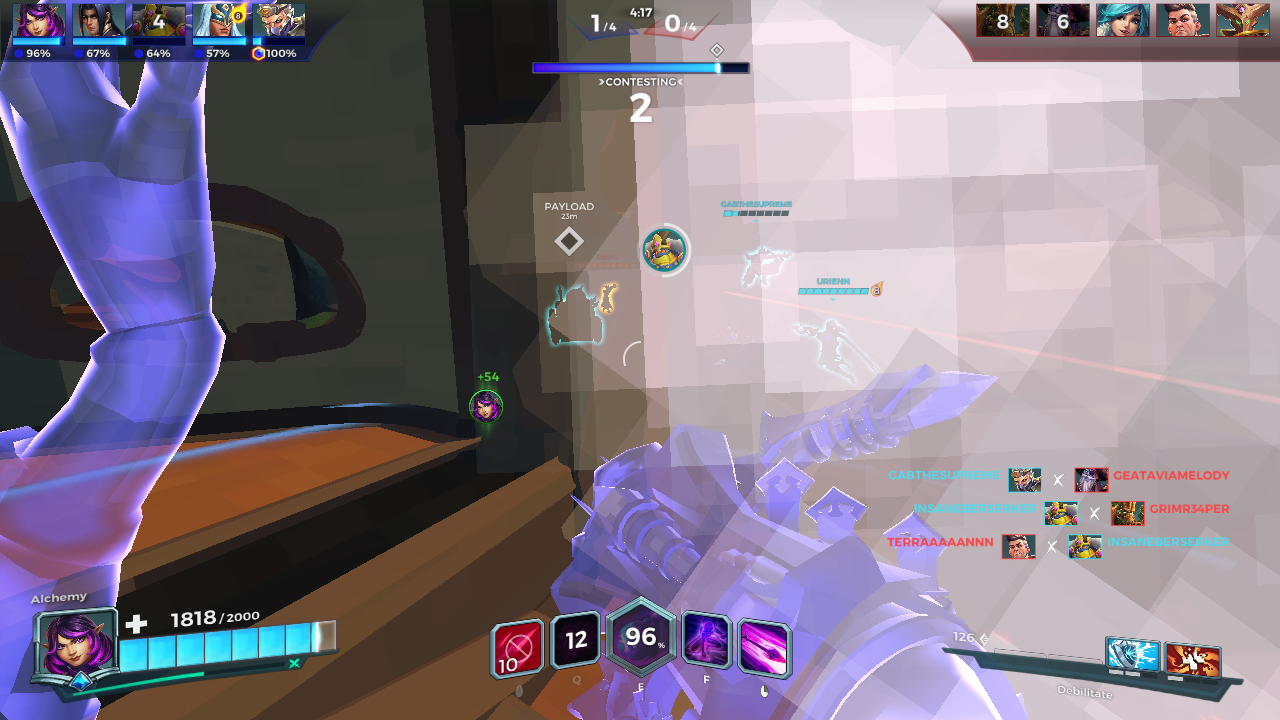model: (598, 281, 617, 312)
